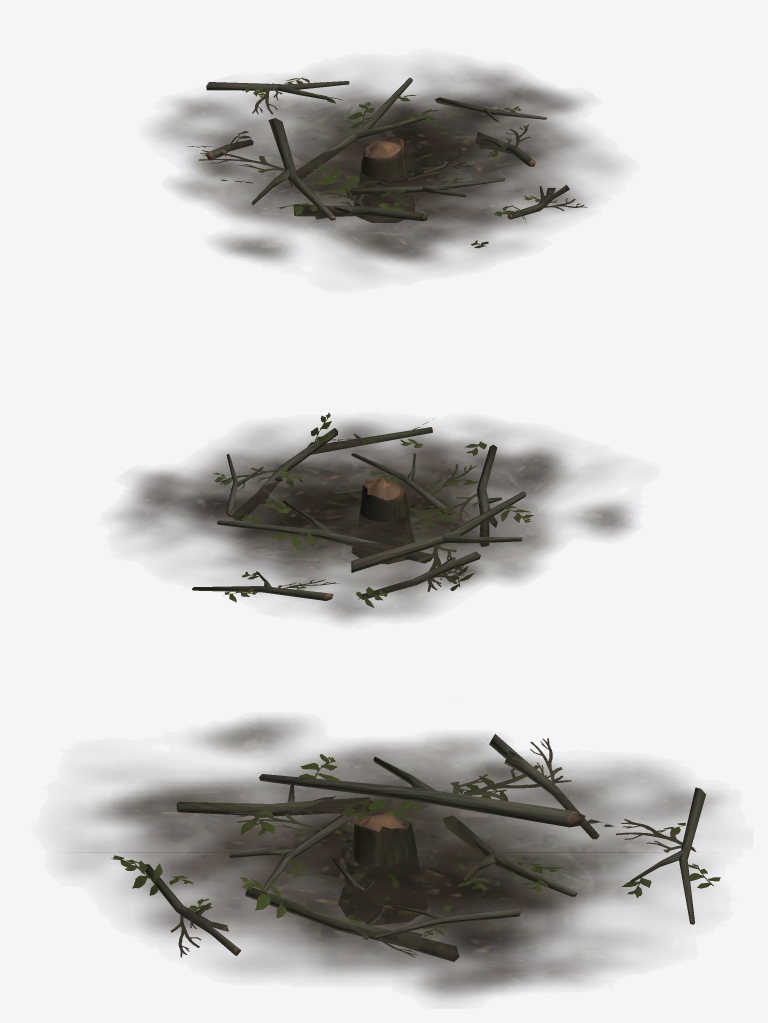
3 views of the same model, one above another, from view 1: azimuth 30°, elevation 25°; view 2: azimuth 150°, elevation 25°; view 3: azimuth 270°, elevation 25° (orthographic). The views are drawn at different scales.
Parts seen in each view (by area): view 1: plants_stump_fir_a-1-underlay, plants_stump_fir_a-0-wood, plants_stump_fir_a-0-leaves; view 2: plants_stump_fir_a-1-underlay, plants_stump_fir_a-0-wood, plants_stump_fir_a-0-leaves; view 3: plants_stump_fir_a-1-underlay, plants_stump_fir_a-0-wood, plants_stump_fir_a-0-leaves.
Part boxes in pixels (left/top/right/bottom): plants_stump_fir_a-1-underlay: left=154, top=64, right=618, bottom=275; plants_stump_fir_a-0-wood: left=205, top=77, right=569, bottom=222; plants_stump_fir_a-0-leaves: left=187, top=77, right=587, bottom=248; plants_stump_fir_a-1-underlay: left=115, top=419, right=633, bottom=622; plants_stump_fir_a-0-wood: left=192, top=427, right=526, bottom=600; plants_stump_fir_a-0-leaves: left=213, top=413, right=533, bottom=607; plants_stump_fir_a-1-underlay: left=63, top=717, right=722, bottom=999; plants_stump_fir_a-0-wood: left=144, top=734, right=705, bottom=961; plants_stump_fir_a-0-leaves: left=111, top=738, right=720, bottom=957.
Size of the model in its own units: 8 by 1.22 by 8.
Materials: 3 (3 with a texture image).
